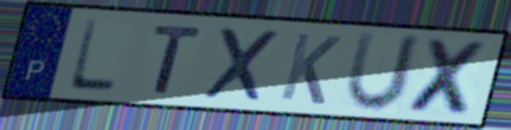K: (275, 30, 345, 108)
L: (64, 16, 121, 95)
T: (149, 23, 207, 97)
U: (340, 29, 426, 115)
X: (404, 35, 493, 120), (198, 24, 283, 105)
